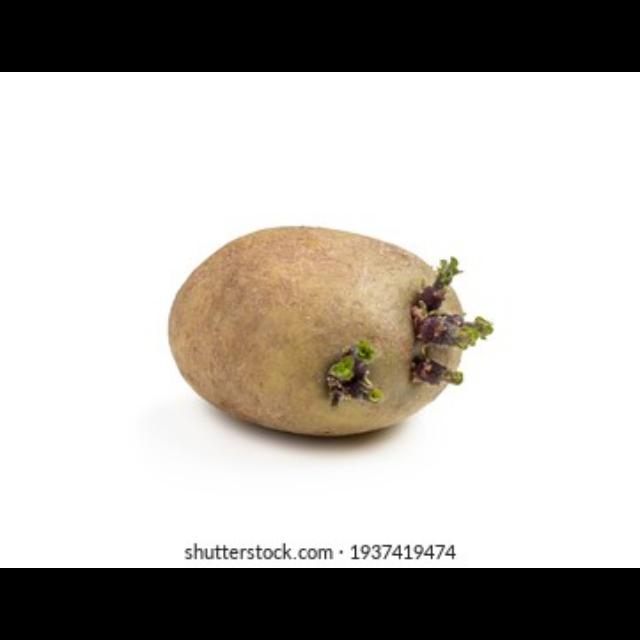Sprouted potato: (174, 218, 520, 442)
